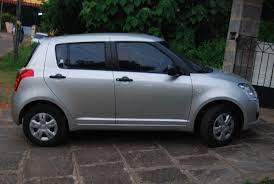Hatchback: (9, 35, 261, 148)
